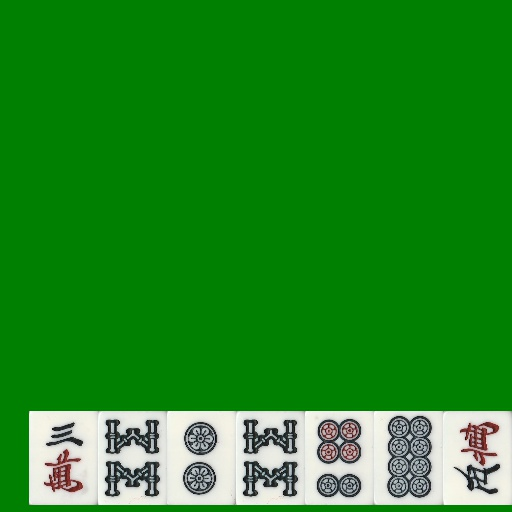2p: (167, 411, 236, 505)
3m: (29, 411, 98, 505)
5m: (443, 411, 512, 505)
6p: (305, 411, 374, 505)
8p: (374, 411, 443, 505)
8s: (98, 411, 167, 505), (236, 411, 305, 505)
